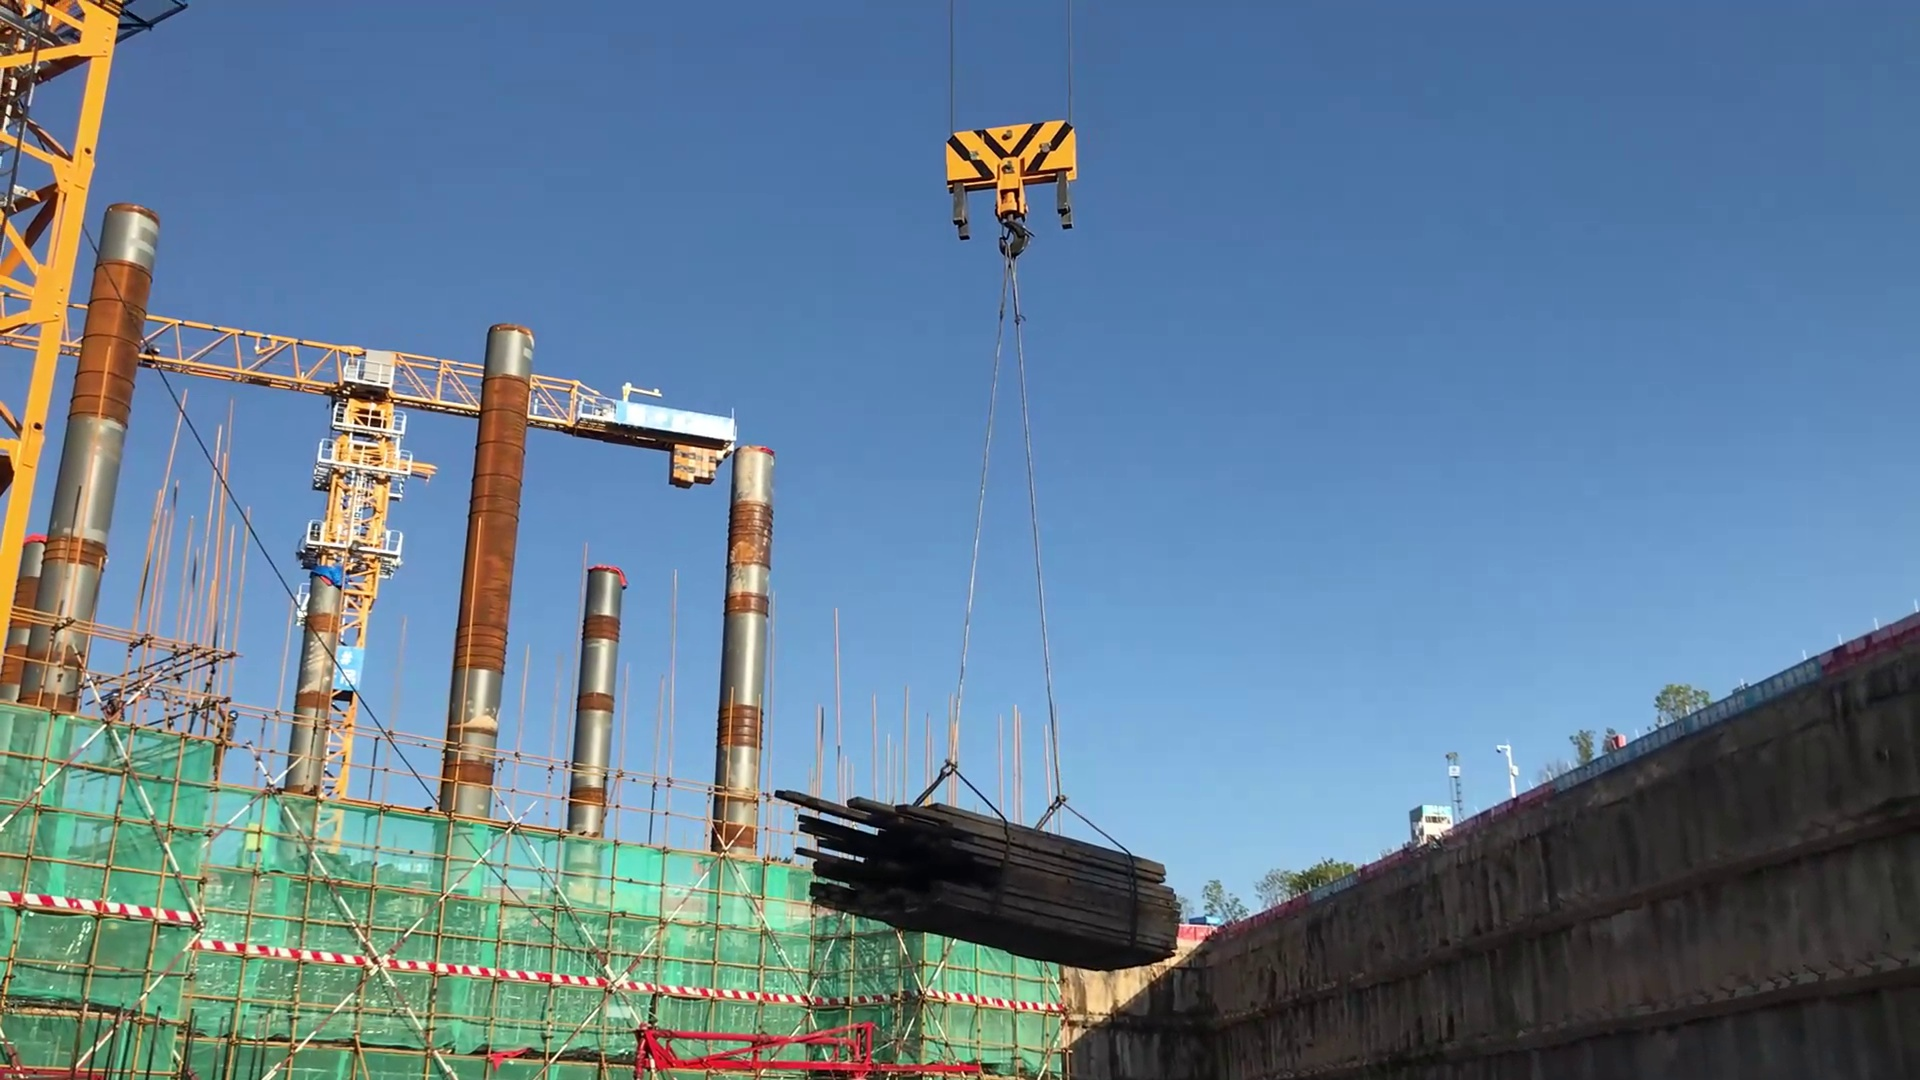hook: (931, 109, 1089, 264)
slogan: (1542, 634, 1825, 781)
wood: (746, 765, 1182, 993)
